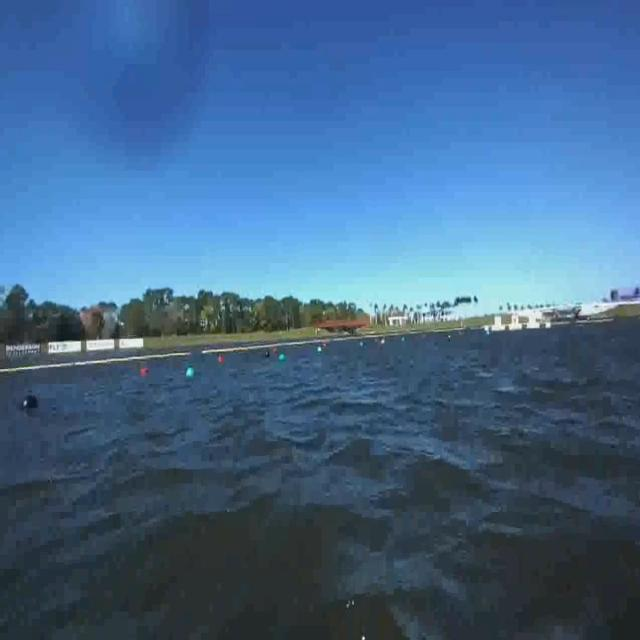black-buoy: (18, 395, 40, 417)
green-buoy: (187, 366, 205, 391)
red-buoy: (138, 368, 154, 383)
